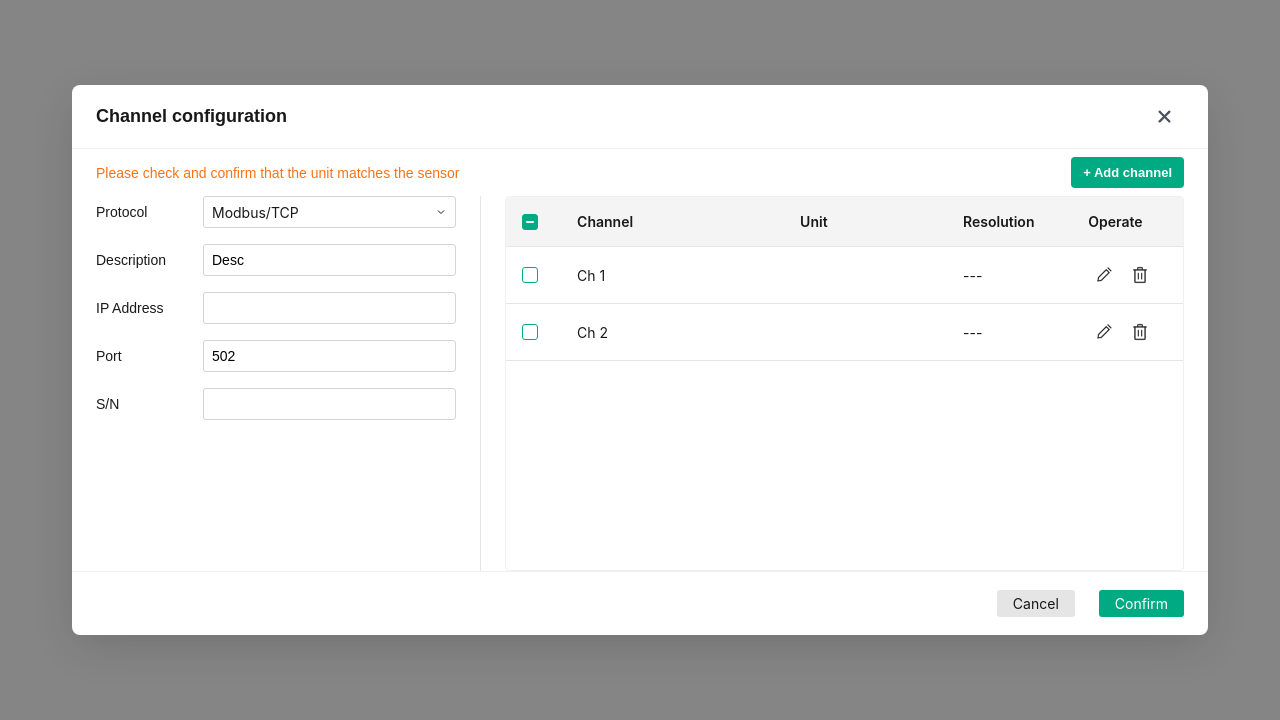
SensorConfigModal › blocks saving an edited channel if its address is already in use by another channel
Note: Edit Ch 2 (second row index 1)
Click the button titled "Edit" in the row of "Ch 2": (1104, 332) [1088,316,1120,348]
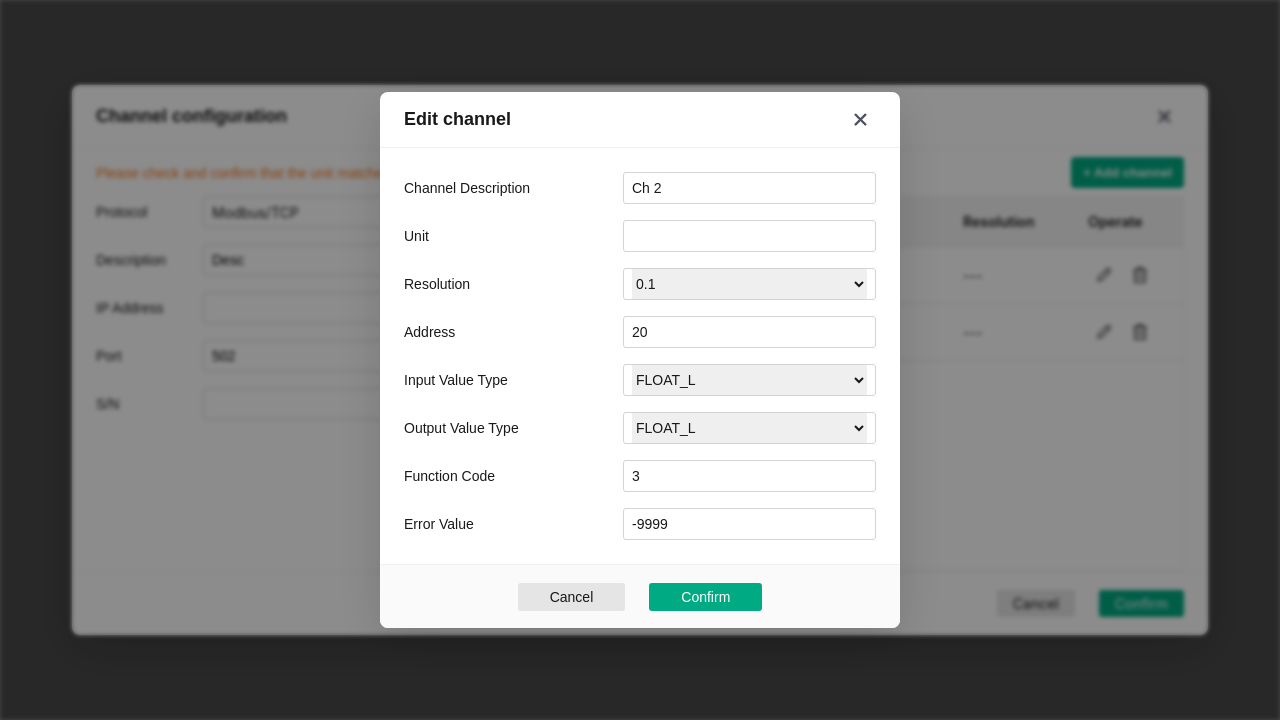
Note: Change Address to '10' in EditChannelModal
Replace the text in the 4th field with class "edit-form-input" with "10": (750, 332) [632,317,867,347]
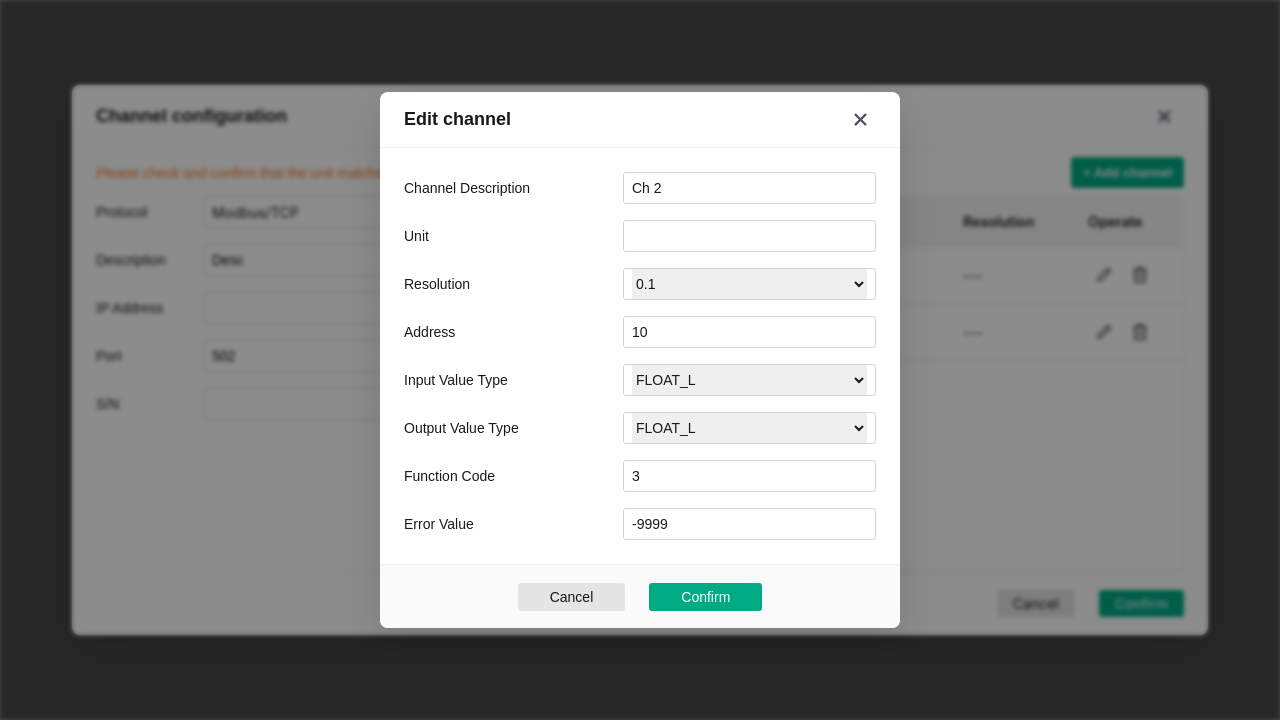
Click the button with class "btn-edit-confirm": (706, 596) [649,582,762,610]
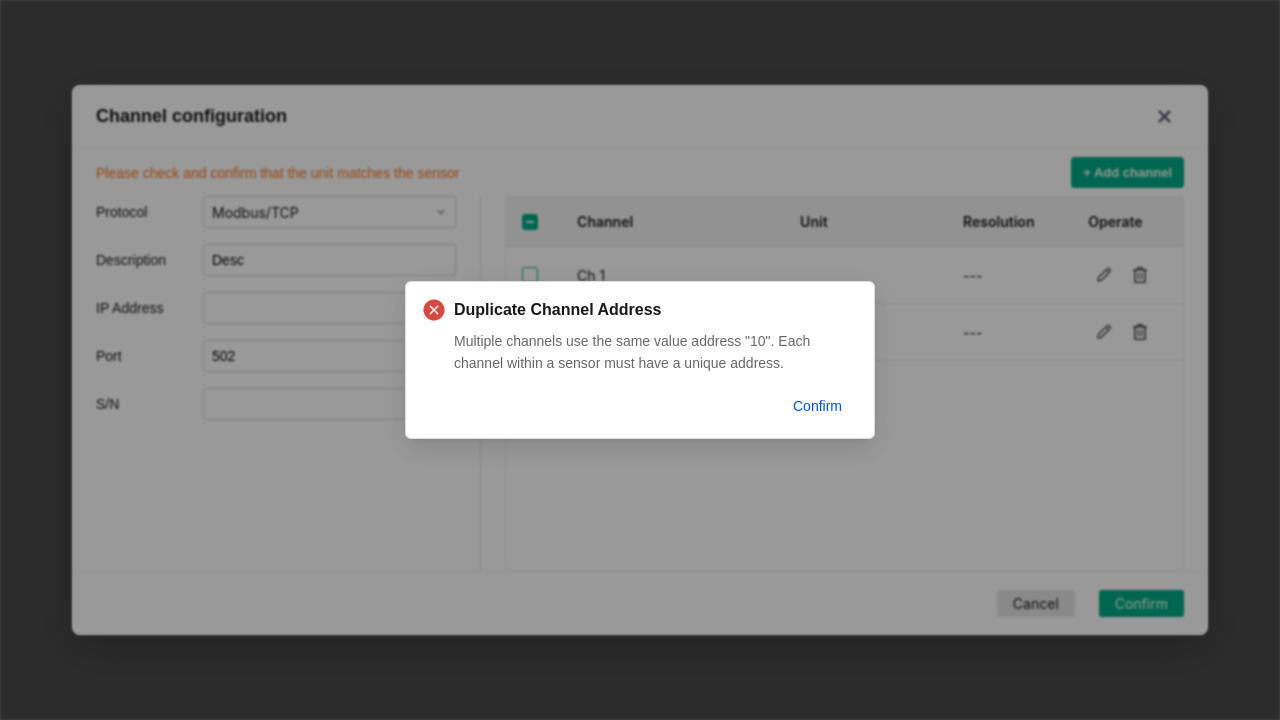
Expected: the text "Duplicate Channel Address" is shown, [454,301,662,318]
Expected: the text "Multiple channels use the same value address \"10\"" is shown, [454,333,810,371]
